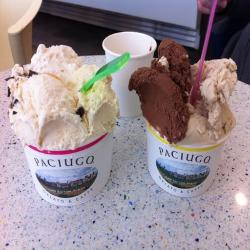icecream: (6, 43, 126, 171), (129, 36, 237, 159)
